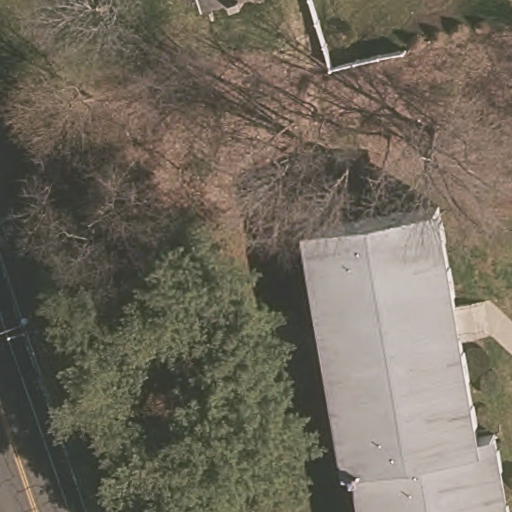DT: (2, 313, 42, 350)
